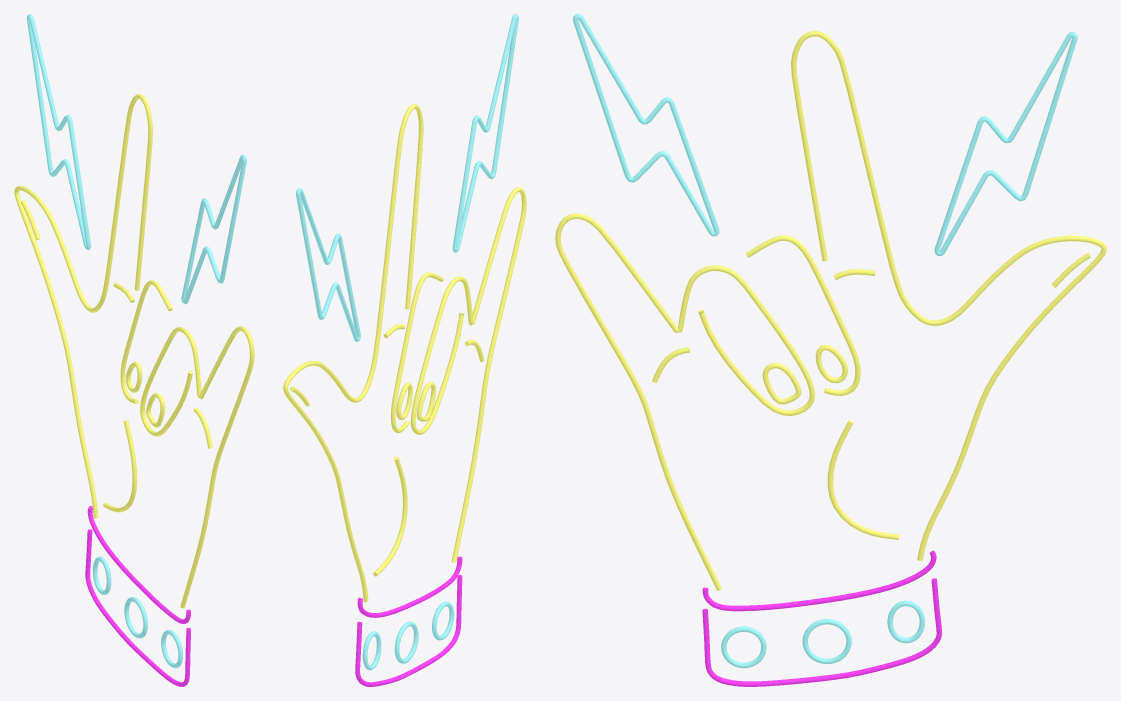
The model's file is punk_rock_neon_sign.glb.
3 views of the same model, side by side, from view 1: azimuth 30°, elevation 25°; view 2: azimuth 150°, elevation 25°; view 3: azimuth 270°, elevation 25° (orthographic). The views are drawn at different scales.
Parts seen in each view (by area): view 1: Vert_Yellow_0; view 2: Vert_Yellow_0; view 3: Vert_Yellow_0.
Part boxes in pixels (x1,y1,x2,y2): Vert_Yellow_0: (14, 14, 254, 686); Vert_Yellow_0: (283, 14, 526, 686); Vert_Yellow_0: (555, 14, 1106, 686).
Size of the model in its own units: 0.0199 by 2.68 by 1.99.
Materials: 1 (1 with a texture image).
